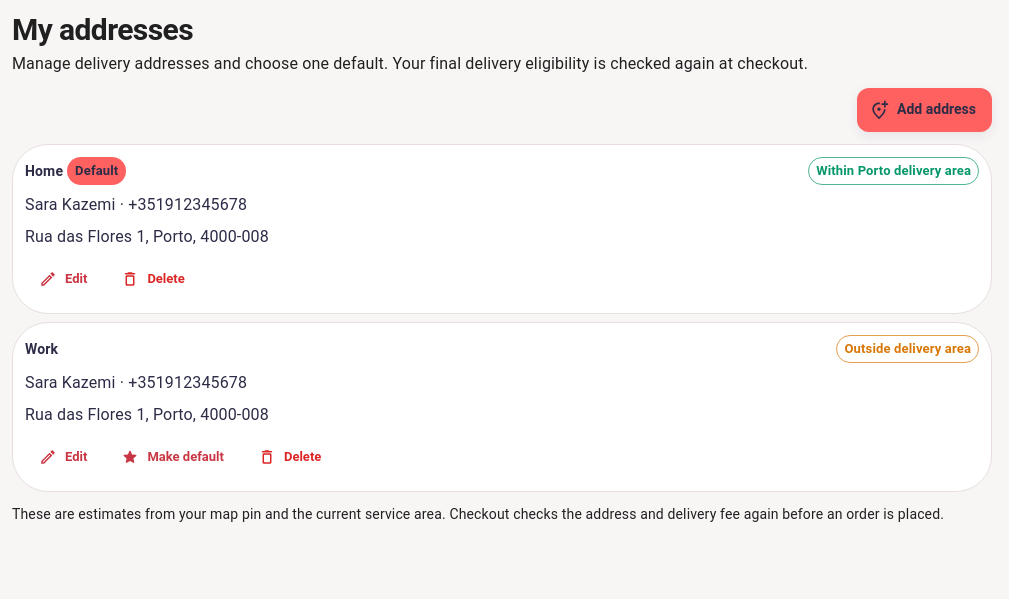
Scenario: customer address management › lists addresses with a default marker and delivery eligibility, then changes the default
Expected: the heading "Home" is shown, top-left (25, 161), bottom-right (63, 181)
Expected: the heading "Work" is shown, top-left (25, 339), bottom-right (58, 359)
Click the button with aria-label "Make Work the default address" at [174, 457], box top-left (107, 435), bottom-right (240, 479)
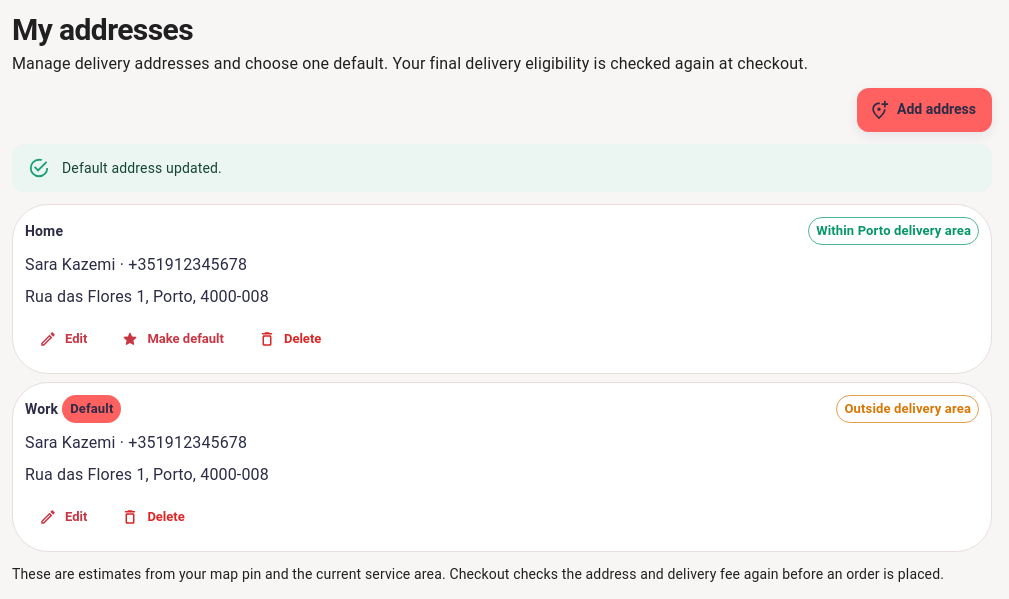
Now the text "Default address updated." is shown, box top-left (62, 160), bottom-right (222, 176)
